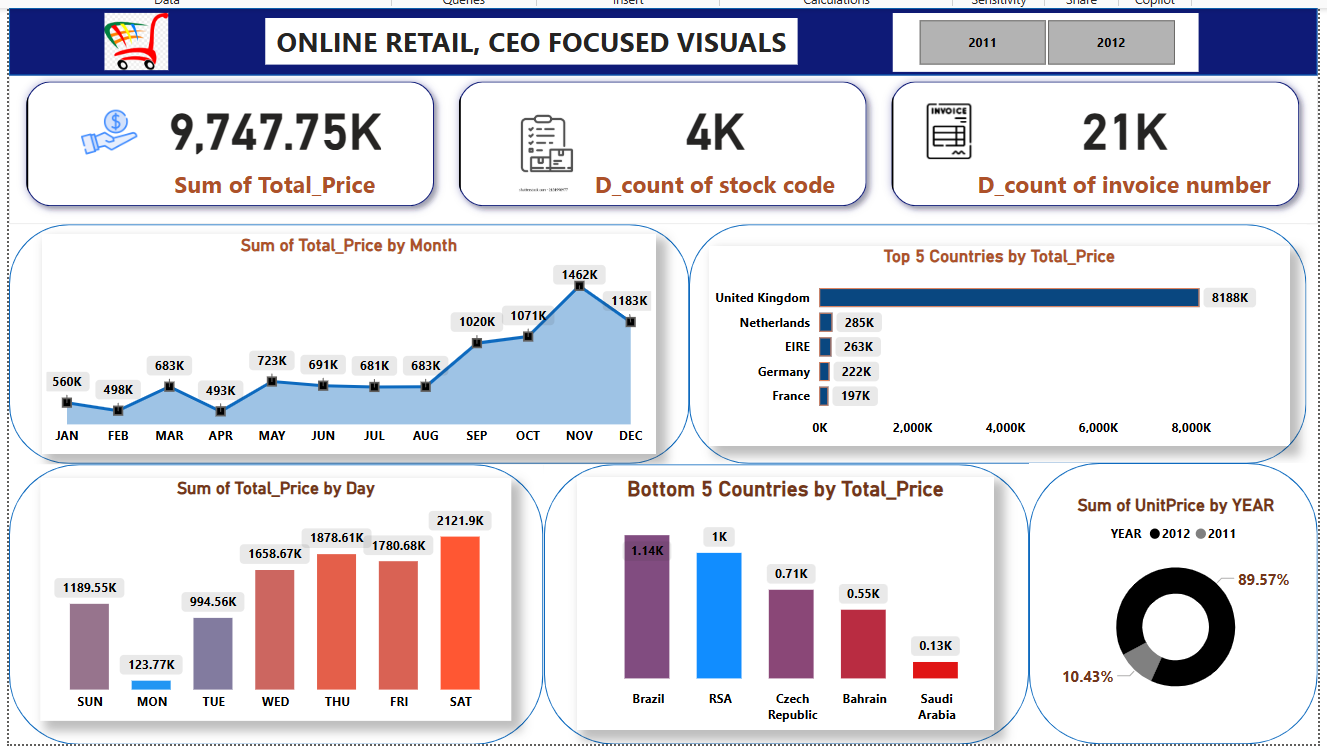

The dashboard page shown, as its layout file describes it:
{"tool":"powerbi","page":{"name":"Page 1","canvas":[1280,720],"ordinal":0},"visuals":[{"type":"cardVisual","fields":{"Data":["Sum(Online Retail.Total_Price)","Online Retail.D_count of stock code","Online Retail.D_count of invoice number"]},"box":[0,55,1280.3,156.5],"z":0},{"type":"shape","box":[0,211.6,665.2,234.8],"z":1000},{"type":"lineChart","title":"Sum of Total_Price by Month","fields":{"Y":["Sum(Online Retail.Total_Price)"],"Category":["Online Retail.O_month"]},"box":[31.8,221.3,601.6,215.2],"z":2000},{"type":"shape","box":[665.2,211.6,604.1,234.8],"z":3000},{"type":"barChart","title":"Top 5 Countries by Total_Price","fields":{"Category":["Online Retail.Country"],"Y":["Sum(Online Retail.Total_Price)"]},"box":[684.7,231.9,568.1,196.2],"z":4000},{"type":"shape","box":[0,446,522.8,274.4],"z":5000},{"type":"columnChart","title":"Sum of Total_Price by Day","fields":{"Y":["Sum(Online Retail.Total_Price)"],"Category":["Online Retail.O_day"]},"box":[30.6,459.8,461,237.2],"z":6000},{"type":"shape","box":[522.8,446,474.8,274.4],"z":7000},{"type":"columnChart","title":"Bottom 5 Countries by Total_Price","fields":{"Category":["Online Retail.Country"],"Y":["Sum(Online Retail.Total_Price)"]},"box":[555.7,458,409,248.4],"z":8000},{"type":"shape","box":[997.8,445.1,282.5,275.1],"z":9000},{"type":"donutChart","fields":{"Category":["Online Retail.YEAR"],"Y":["Sum(Online Retail.UnitPrice)"]},"box":[1013.7,475.7,255.6,212.8],"z":10000},{"type":"shape","box":[0,0,1280.3,66],"z":11000},{"type":"textbox","box":[250.7,9.8,520.9,45.2],"z":12000},{"type":"slicer","fields":{"Values":["Online Retail.YEAR"]},"box":[864.5,4.9,299.6,57.5],"z":13000},{"type":"image","box":[31.8,0,185.9,66],"z":14000}]}

Visuals, with their boxes on the page's 1280x720 design canvas (x1, y1, x2, y2). These are canvas units, not pixel positions in the 1327x750 screenshot, which may show the page scaled, cropped or inside an application window:
cardVisual - Sum(Online Retail.Total_Price) x Online Retail.D_count of stock code: [x1=0, y1=55, x2=1280, y2=212]
shape: [x1=0, y1=212, x2=665, y2=446]
"Sum of Total_Price by Month" lineChart: [x1=32, y1=221, x2=633, y2=436]
shape: [x1=665, y1=212, x2=1269, y2=446]
"Top 5 Countries by Total_Price" barChart: [x1=685, y1=232, x2=1253, y2=428]
shape: [x1=0, y1=446, x2=523, y2=720]
"Sum of Total_Price by Day" columnChart: [x1=31, y1=460, x2=492, y2=697]
shape: [x1=523, y1=446, x2=998, y2=720]
"Bottom 5 Countries by Total_Price" columnChart: [x1=556, y1=458, x2=965, y2=706]
shape: [x1=998, y1=445, x2=1280, y2=720]
donutChart - Online Retail.YEAR x Sum(Online Retail.UnitPrice): [x1=1014, y1=476, x2=1269, y2=688]
shape: [x1=0, y1=0, x2=1280, y2=66]
textbox: [x1=251, y1=10, x2=772, y2=55]
slicer - Online Retail.YEAR: [x1=864, y1=5, x2=1164, y2=62]
image: [x1=32, y1=0, x2=218, y2=66]
